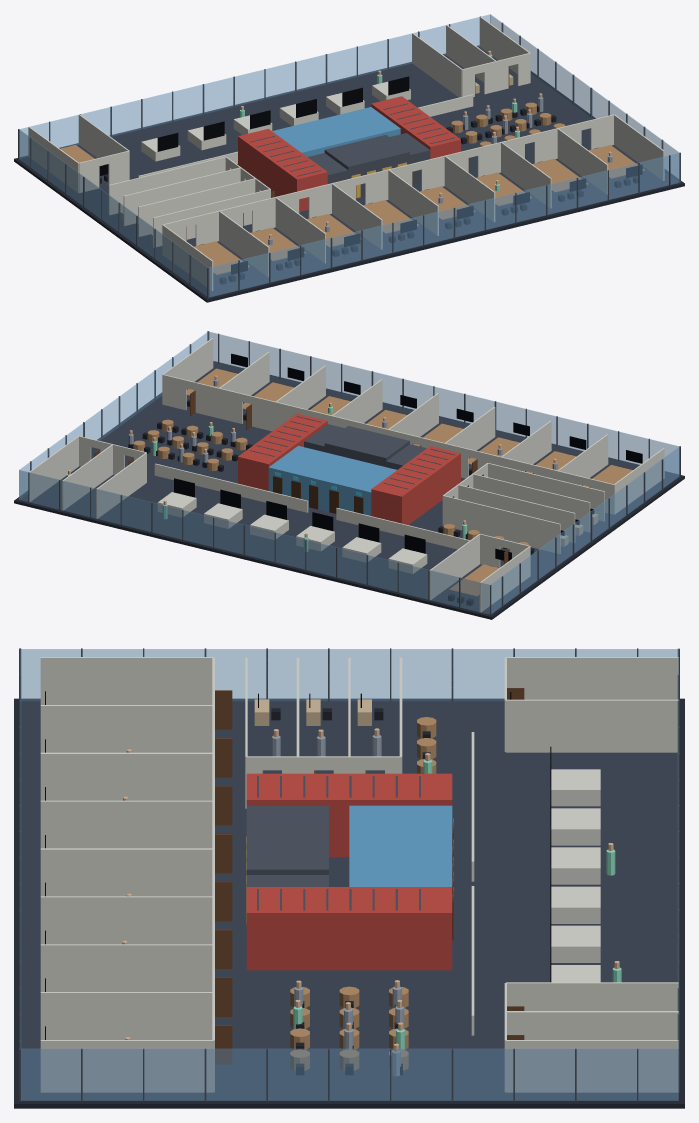
3 renders of one model, top to bottom at view 1: azimuth 30°, elevation 25°; view 2: azimuth 150°, elevation 25°; view 3: azimuth 270°, elevation 25°, orthographic. The views are drawn at different scales.
Parts seen in each view (by area): view 1: L14_wall, L14_glass, L14_floor_carpet, L14_table, L14_core, L14_stair, L14_slab, L14_screen, L14_wash, L14_shelf, L14_chair; view 2: L14_wall, L14_glass, L14_floor_carpet, L14_stair, L14_core, L14_table, L14_wash, L14_slab, L14_shelf, L14_screen, L14_chair, L14_door_closed (+1 smaller); view 3: L14_wall, L14_floor_carpet, L14_glass, L14_stair, L14_core, L14_shelf, L14_slab, L14_wash, L14_door, L14_table, L14_desk, L14_role_trader (+3 smaller).
Boxes of the visible parts, x1,y1,x2,y2 form: L14_wall: [28, 17, 664, 290]; L14_glass: [19, 14, 679, 296]; L14_floor_carpet: [19, 46, 679, 297]; L14_table: [60, 102, 644, 275]; L14_core: [18, 16, 680, 298]; L14_stair: [238, 96, 460, 211]; L14_slab: [14, 45, 684, 302]; L14_screen: [100, 76, 642, 274]; L14_wash: [272, 107, 400, 156]; L14_shelf: [141, 81, 410, 161]; L14_chair: [60, 105, 638, 284]; L14_wall: [28, 338, 664, 612]; L14_glass: [19, 331, 679, 614]; L14_floor_carpet: [19, 362, 679, 614]; L14_stair: [238, 413, 460, 524]; L14_core: [28, 331, 680, 615]; L14_table: [133, 368, 632, 596]; L14_wash: [268, 445, 396, 515]; L14_slab: [14, 361, 684, 619]; L14_shelf: [157, 492, 427, 573]; L14_screen: [174, 353, 642, 561]; L14_chair: [128, 371, 626, 605]; L14_door_closed: [273, 476, 363, 513]; L14_wall: [40, 657, 678, 1092]; L14_floor_carpet: [21, 700, 678, 1101]; L14_glass: [20, 649, 678, 1100]; L14_stair: [246, 773, 452, 970]; L14_core: [19, 648, 679, 1101]; L14_shelf: [551, 769, 600, 982]; L14_slab: [14, 698, 684, 1108]; L14_wash: [349, 805, 452, 886]; L14_door: [215, 688, 524, 1064]; L14_table: [290, 717, 436, 1070]; L14_desk: [254, 699, 371, 725]; L14_role_trader: [271, 735, 401, 1049].
Size of the model in its own units: 46.6 by 3.37 by 32.6.
